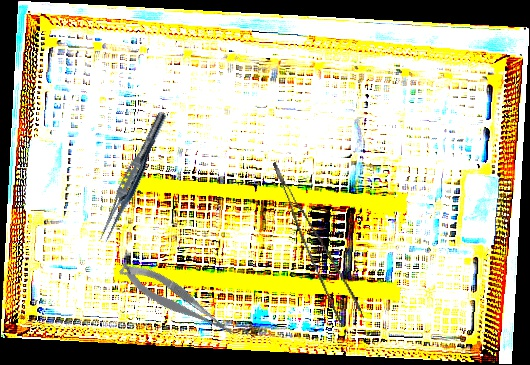Micro Scissor: (114, 250, 240, 352)
Tissue Forceps: (272, 151, 365, 331), (94, 108, 171, 247)
